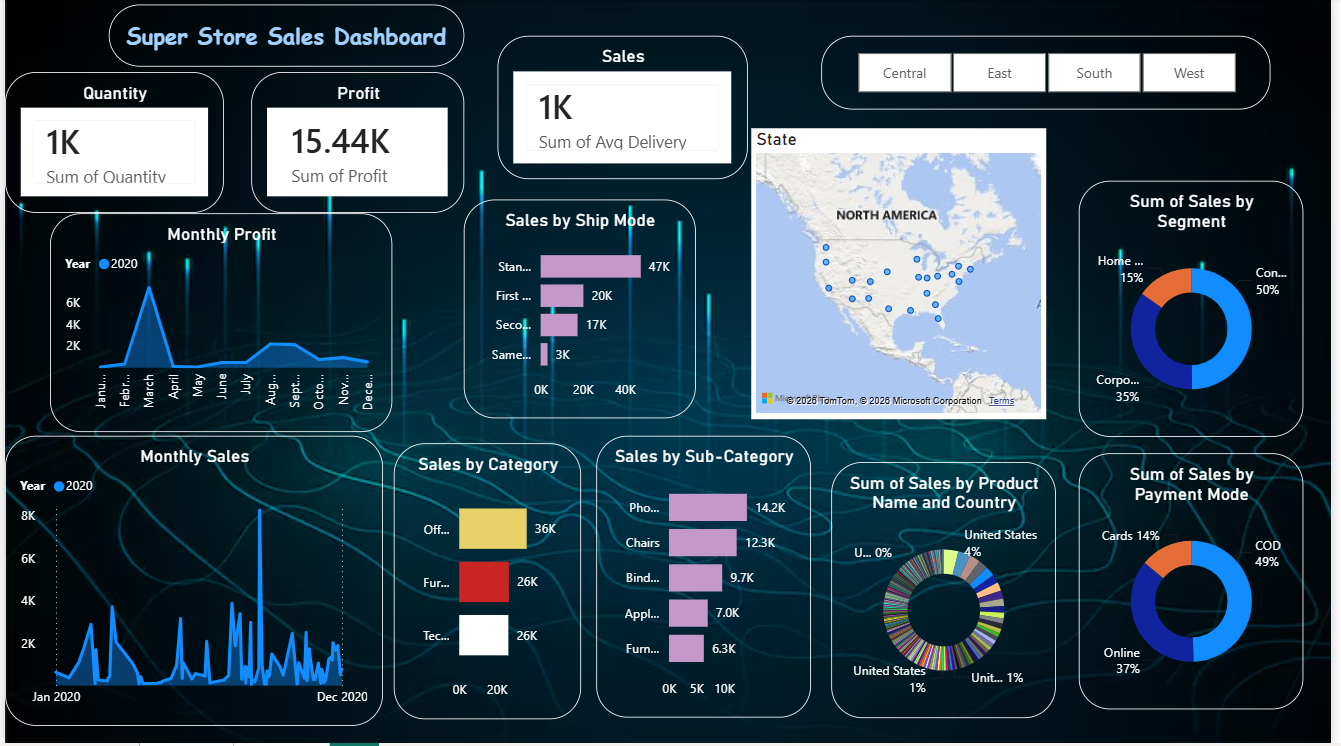

The page's visual inventory and layout, read from the dashboard file:
{"tool":"powerbi","page":{"name":"Page 1","canvas":[1280,720],"ordinal":0},"visuals":[{"type":"clusteredBarChart","title":"Sales by Category","fields":{"Category":["Sheet1 (2).Category"],"Y":["Sum(Sheet1 (2).Sales)"]},"box":[374.6,430.9,181.1,266.2],"z":0},{"type":"clusteredBarChart","title":"Sales by Sub-Category","fields":{"Category":["Sheet1 (2).Sub-Category"],"Y":["Sum(Sheet1 (2).Sales)"]},"box":[570.8,424,207.2,271.7],"z":1000},{"type":"clusteredBarChart","title":"Sales by Ship Mode","fields":{"Category":["Sheet1 (2).Ship Mode"],"Y":["Sum(Sheet1 (2).Sales)"]},"box":[443.2,194.9,223.7,211.3],"z":2000},{"type":"areaChart","title":"Monthly Sales","fields":{"Y":["Sum(Sheet1 (2).Sales)"],"Series":["Sheet1 (2).Order Date.Variation.Date Hierarchy.Year"],"Category":["Sheet1 (2).Order Date"]},"box":[0,424,365,279.9],"z":3000},{"type":"areaChart","title":"Monthly Profit","fields":{"Category":["Sheet1 (2).Order Date.Variation.Date Hierarchy.Month","Sheet1 (2).Order Date.Variation.Date Hierarchy.Day"],"Series":["Sheet1 (2).Order Date.Variation.Date Hierarchy.Year"],"Y":["Sum(Sheet1 (2).Profit)"]},"box":[43.9,208.6,330.7,211.3],"z":4000},{"type":"map","fields":{"Category":["Sheet1 (2).State"]},"box":[720.4,126.2,284,279.9],"z":5000},{"type":"donutChart","fields":{"Y":["Sum(Sheet1 (2).Sales)"],"Category":["Sheet1 (2).Segment"]},"box":[1036,177,216.8,247],"z":6000},{"type":"donutChart","fields":{"Y":["Sum(Sheet1 (2).Sales)"],"Category":["Sheet1 (2).Payment Mode"]},"box":[1036,440.5,216.8,247],"z":7000},{"type":"donutChart","fields":{"Y":["Sum(Sheet1 (2).Sales)"],"Series":["Sheet1 (2).Country"],"Category":["Sheet1 (2).Product Name"]},"box":[797.3,448.7,216.8,247],"z":8000},{"type":"slicer","fields":{"Values":["Sheet1 (2).Region"]},"box":[787.7,37,433.6,71.4],"z":9000},{"type":"textbox","box":[100.2,6.9,343.1,60.4],"z":10000},{"type":"cardVisual","title":"Sales","fields":{"Data":["Sum(Sheet1 (2).Avg Delivery)"]},"box":[474.8,37,241.5,138.6],"z":11000},{"type":"cardVisual","title":"Profit","fields":{"Data":["Sum(Sheet1 (2).Profit)"]},"box":[237.4,72.7,205.8,135.8],"z":12000},{"type":"cardVisual","title":"Quantity","fields":{"Data":["Sum(Sheet1 (2).Quantity)"]},"box":[0,72.7,211.3,135.8],"z":13000}]}

Visuals, with their boxes in screenshot pixels (x1, y1, x2, y2), scaled from the page's 1280x720 canvas onto the 1341x746 screenshot:
"Sales by Category" clusteredBarChart: select_region(392, 446, 582, 722)
"Sales by Sub-Category" clusteredBarChart: select_region(598, 439, 815, 721)
"Sales by Ship Mode" clusteredBarChart: select_region(464, 202, 699, 421)
"Monthly Sales" areaChart: select_region(0, 439, 382, 729)
"Monthly Profit" areaChart: select_region(46, 216, 392, 435)
map - Sheet1 (2).State: select_region(755, 131, 1052, 421)
donutChart - Sum(Sheet1 (2).Sales) x Sheet1 (2).Segment: select_region(1085, 183, 1313, 439)
donutChart - Sum(Sheet1 (2).Sales) x Sheet1 (2).Payment Mode: select_region(1085, 456, 1313, 712)
donutChart - Sum(Sheet1 (2).Sales) x Sheet1 (2).Country: select_region(835, 465, 1062, 721)
slicer - Sheet1 (2).Region: select_region(825, 38, 1280, 112)
textbox: select_region(105, 7, 464, 70)
"Sales" cardVisual: select_region(497, 38, 750, 182)
"Profit" cardVisual: select_region(249, 75, 464, 216)
"Quantity" cardVisual: select_region(0, 75, 221, 216)
